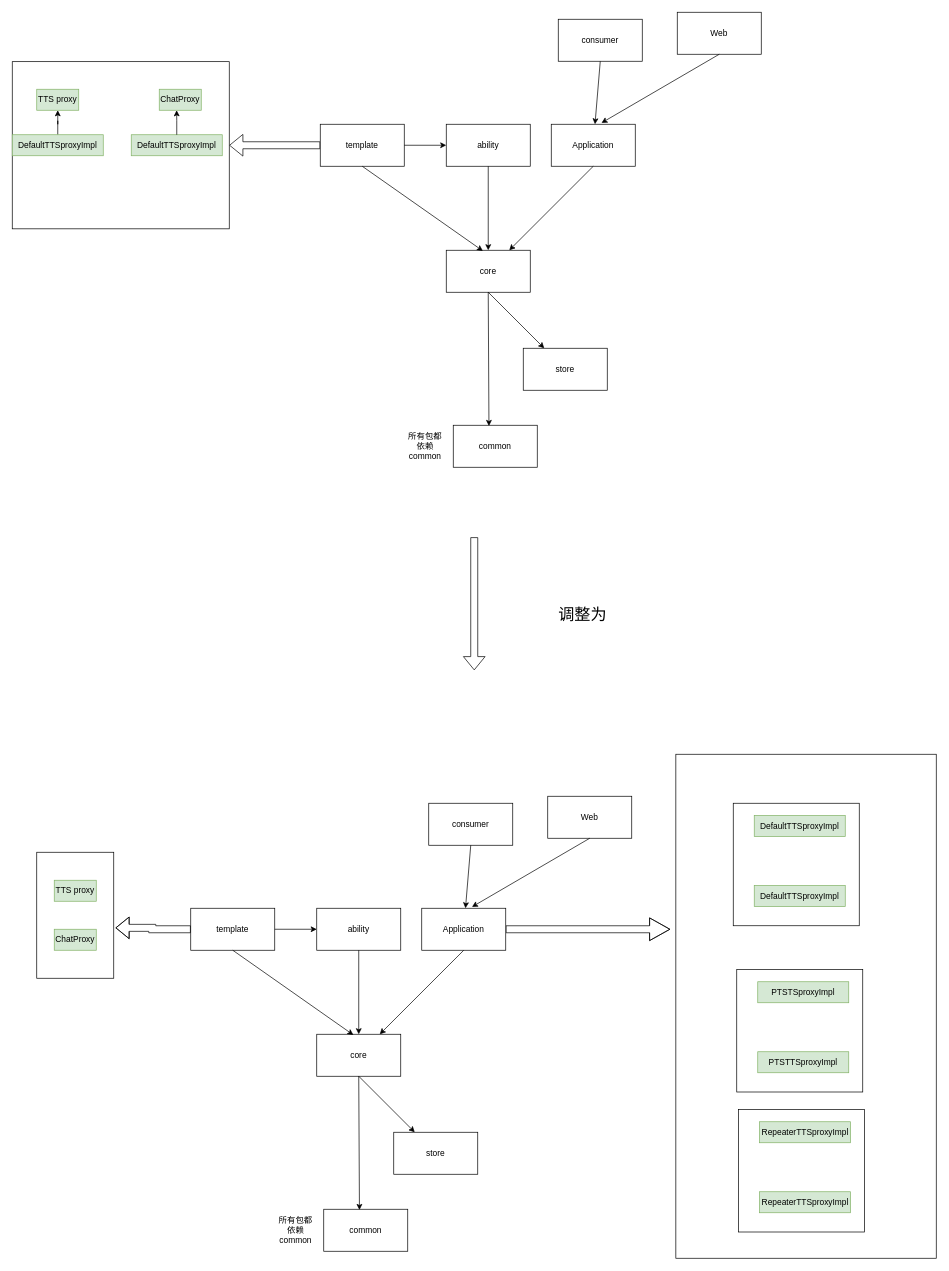
The diagram is 949 pixels wide and 1271 high, and some of its shapes have lost their labels. The shapes that lost their labels are listed below. From the top down, each one's box as (x1, y1, x2, y2) in pixels, then its label:
(733, 803, 859, 926): 默认
(736, 969, 863, 1092): 压测
(738, 1109, 864, 1232): 回放
